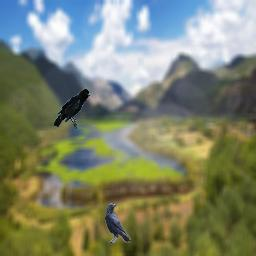Crow: (54, 89, 93, 129), (105, 203, 131, 243)
